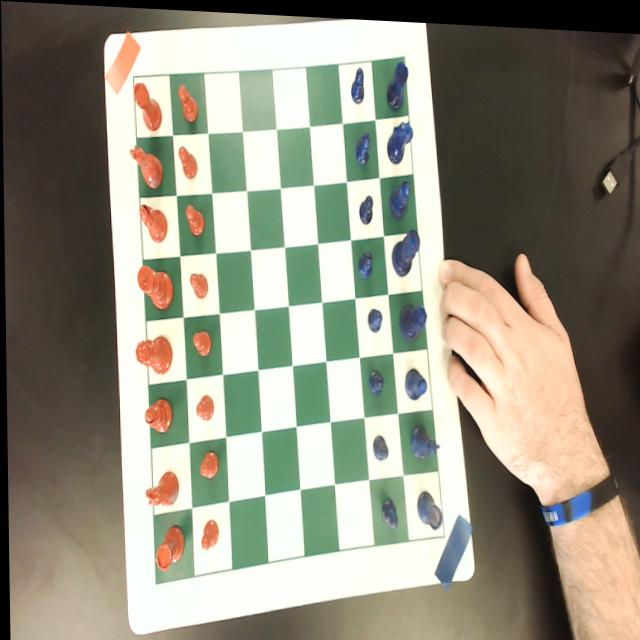B: (387, 174, 410, 215), (403, 362, 426, 395)
K: (389, 223, 420, 274)
N: (385, 112, 414, 161), (408, 416, 439, 458)
P: (377, 490, 396, 525), (353, 127, 370, 162), (349, 62, 364, 100), (369, 429, 388, 458), (356, 243, 372, 276), (357, 190, 373, 221), (365, 302, 381, 329), (366, 364, 382, 390)
Q: (397, 298, 426, 337)
R: (385, 55, 409, 106), (415, 484, 441, 525)
b: (137, 202, 167, 241), (142, 395, 171, 434)
k: (135, 262, 173, 309)
n: (128, 140, 162, 188), (142, 464, 178, 506)
p: (177, 81, 197, 121), (176, 142, 196, 177), (198, 514, 217, 549), (184, 201, 203, 235), (197, 447, 217, 478), (190, 326, 210, 354), (188, 269, 207, 296), (194, 390, 212, 417)
q: (133, 331, 171, 374)
r: (152, 521, 183, 570), (132, 79, 161, 130)
